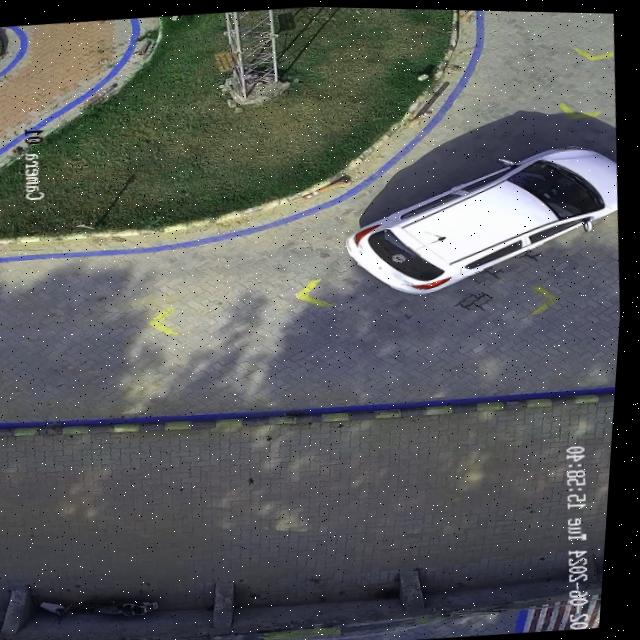car: (349, 143, 620, 293)
